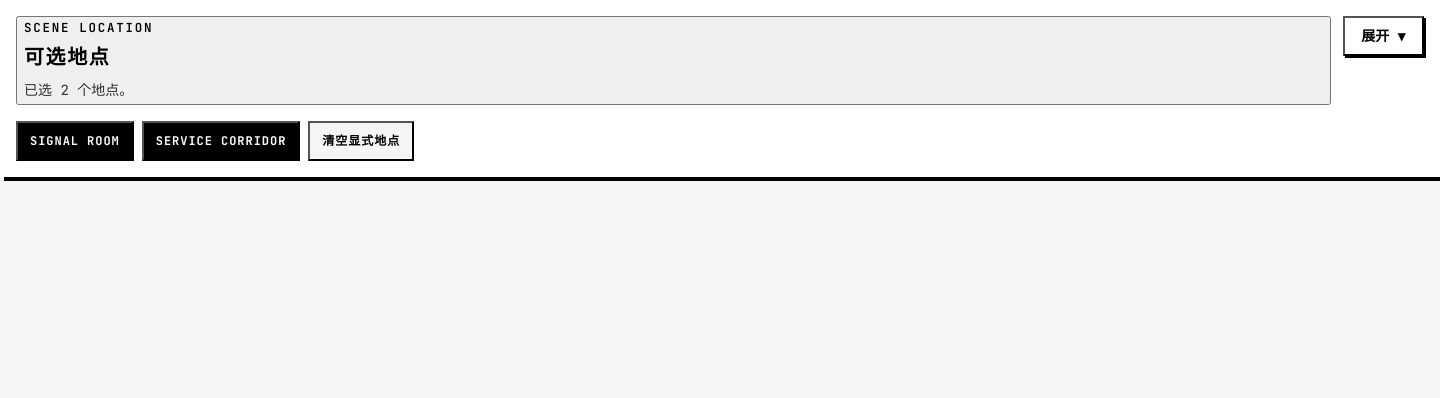
Test: SceneLocationSelector › shows selected chips, expands the pool, and lets chips remove locations immediately
Expected: the text "已选 2 个地点。" is shown, [24, 81, 133, 99]
Expected: the button with aria-label "移除 Signal Room" is shown, [16, 121, 134, 161]
Click the text "Scene Location": point(89, 28) [24, 19, 153, 36]
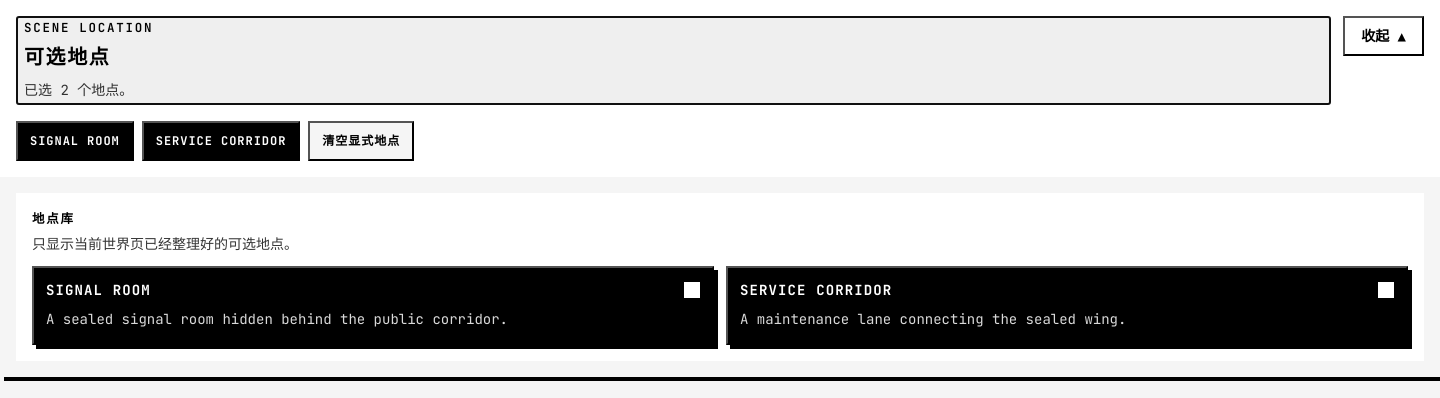
Expected: the button named "场景地点" is expanded, [1343, 16, 1424, 56]
Expected: the button with aria-label "选择地点 Signal Room" is shown, [32, 266, 714, 345]
Expected: the button with aria-label "选择地点 Service Corridor" is shown, [726, 266, 1408, 345]
Click the button with aria-label "移除 Signal Room": point(75, 141) [16, 121, 134, 161]
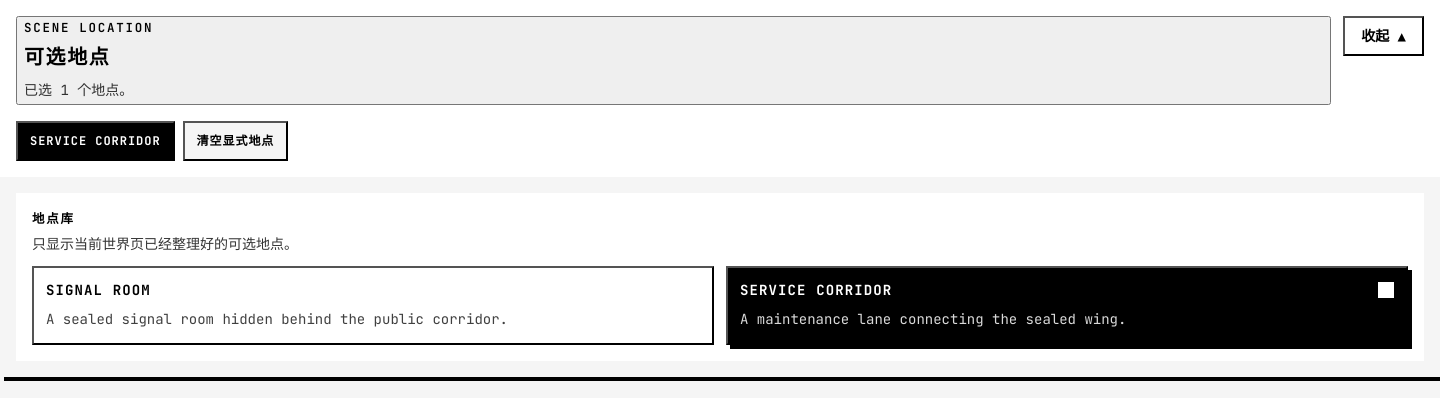
Expected: the text "已选 1 个地点。" is shown, [24, 81, 133, 99]
Click the button with aria-label "选择地点 Signal Room": point(98, 290) [32, 266, 714, 345]
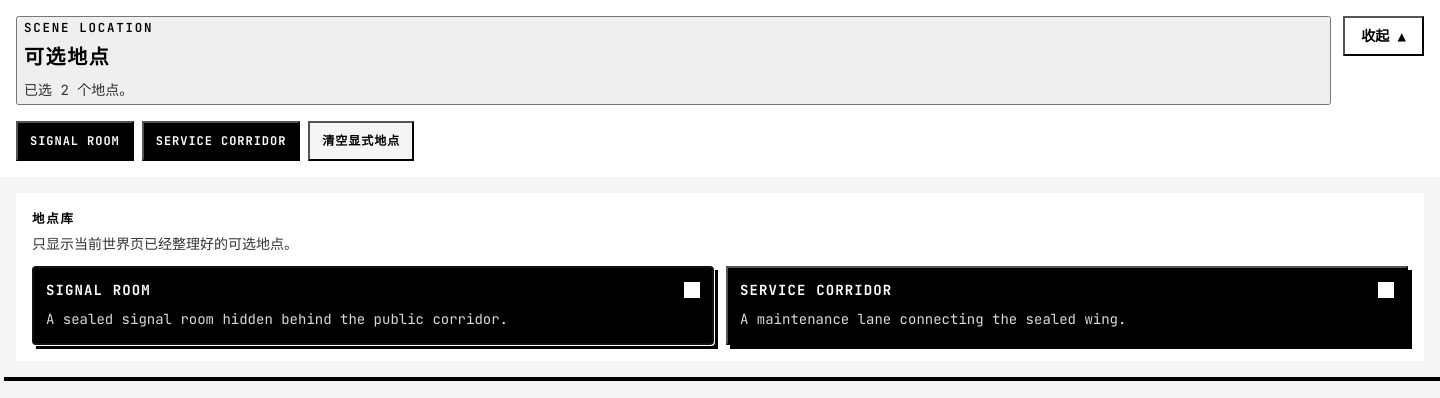
Expected: the text "已选 2 个地点。" is shown, [24, 81, 133, 99]
